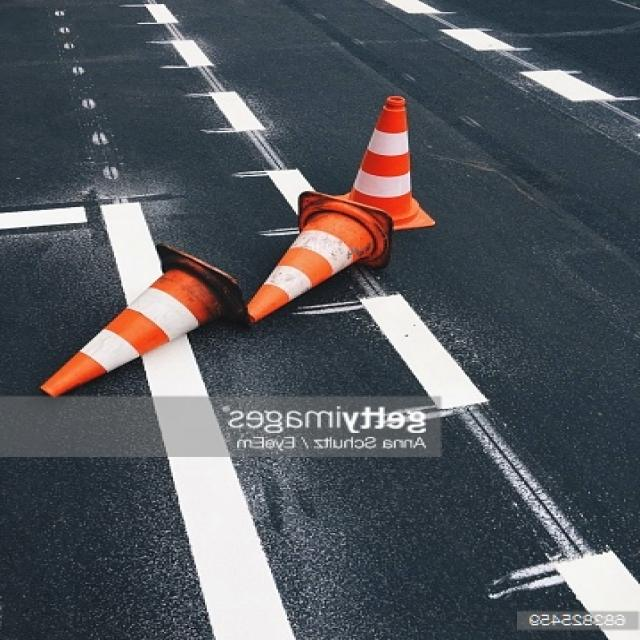cone: (40, 244, 250, 398), (246, 190, 394, 324), (332, 96, 434, 230)
